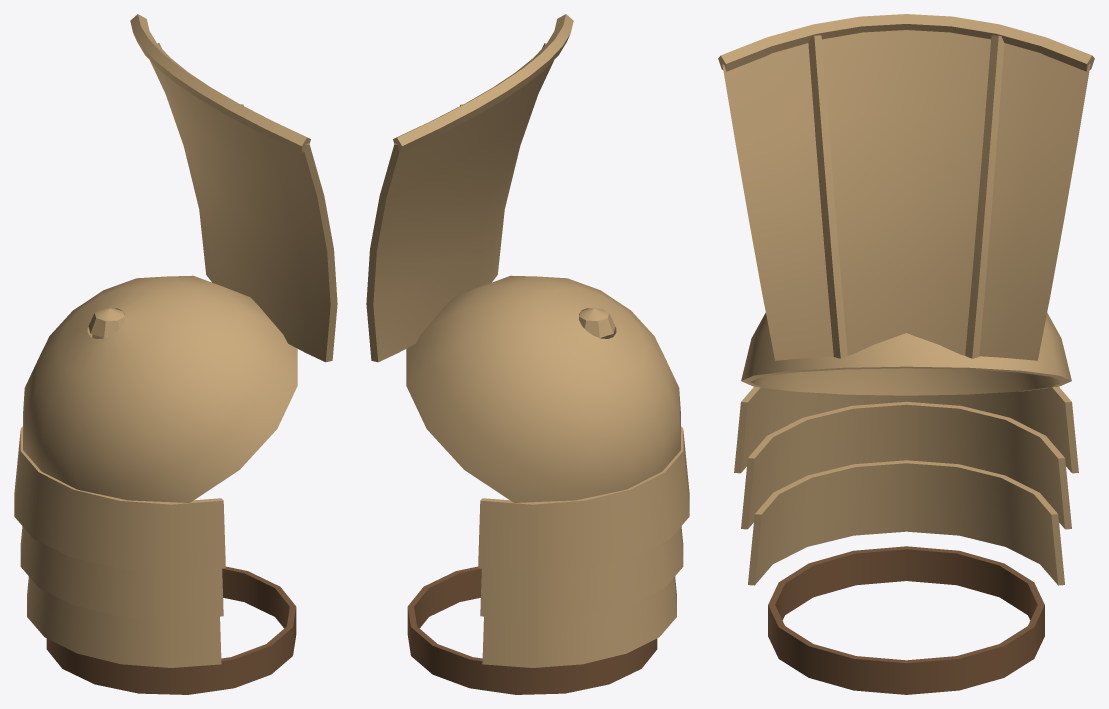
Rendered from galerus_l.glb.
3 renders of one model, left to right at view 1: azimuth 30°, elevation 25°; view 2: azimuth 150°, elevation 25°; view 3: azimuth 270°, elevation 25°, orthographic. The views are drawn at different scales.
Visible parts, largest first — view 1: OUT; view 2: OUT; view 3: OUT.
Boxes of the visible parts, left/top/right/bottom form: OUT: left=14, top=14, right=337, bottom=694; OUT: left=366, top=14, right=689, bottom=694; OUT: left=718, top=14, right=1094, bottom=694.
Bounding box in the file's own units: 0.179 × 0.3955 × 0.2152.
